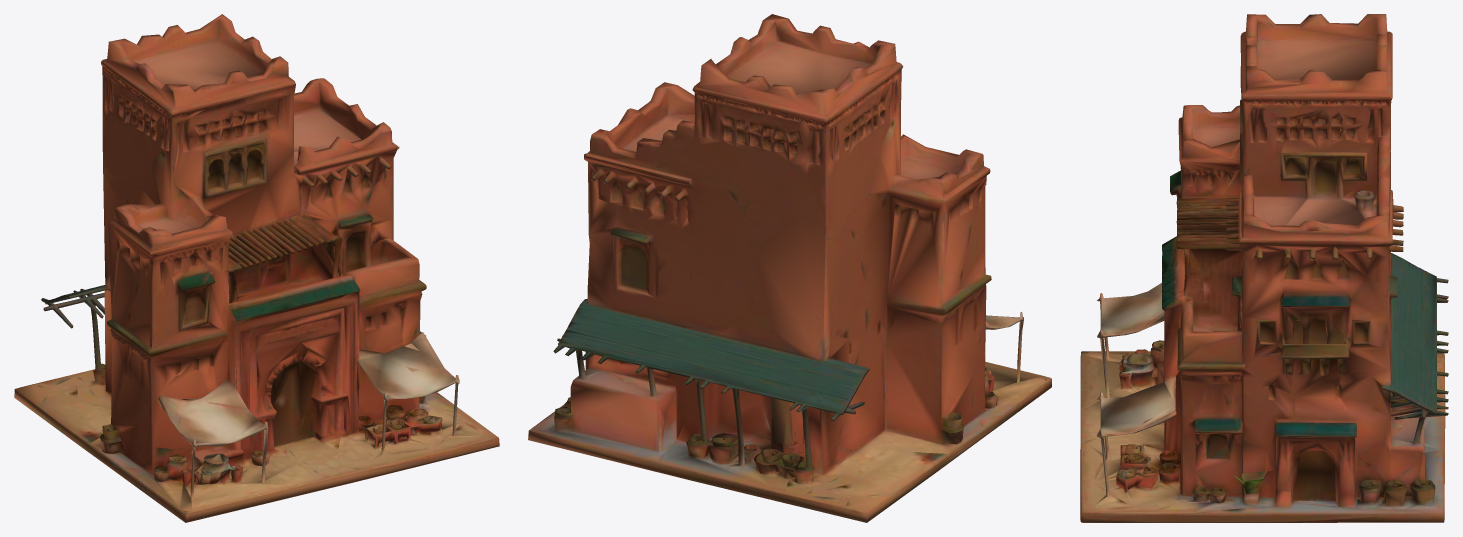
File: house_18.glb
The picture shows the model from 3 angles, left to right: view 1: azimuth 30°, elevation 25°; view 2: azimuth 150°, elevation 25°; view 3: azimuth 270°, elevation 25°; orthographic projection. The views are drawn at different scales.
Parts seen in each view (by area): view 1: material; view 2: material; view 3: material.
Boxes of the visible parts, x1,y1,x2,y2 form: material: [14, 14, 499, 522]; material: [528, 14, 1051, 522]; material: [1080, 14, 1448, 522].
Bounding box in the file's own units: 0.6862 × 0.749 × 0.6554.
Materials: 1 (1 with a texture image).
